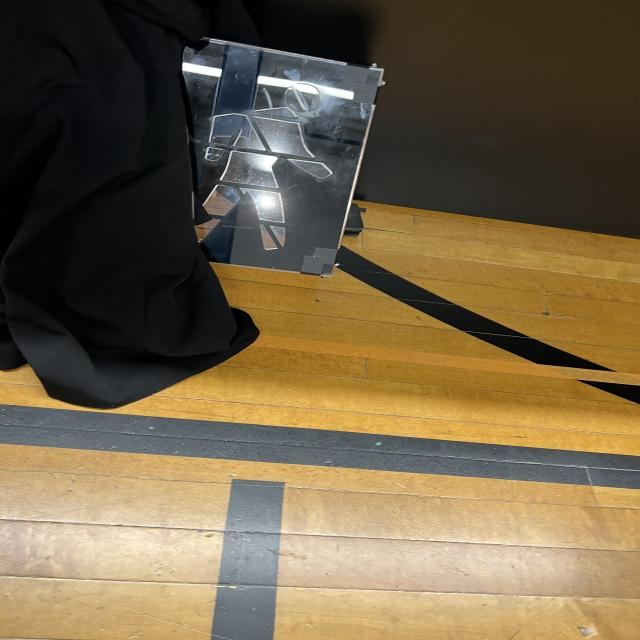go: (203, 46, 385, 272)
